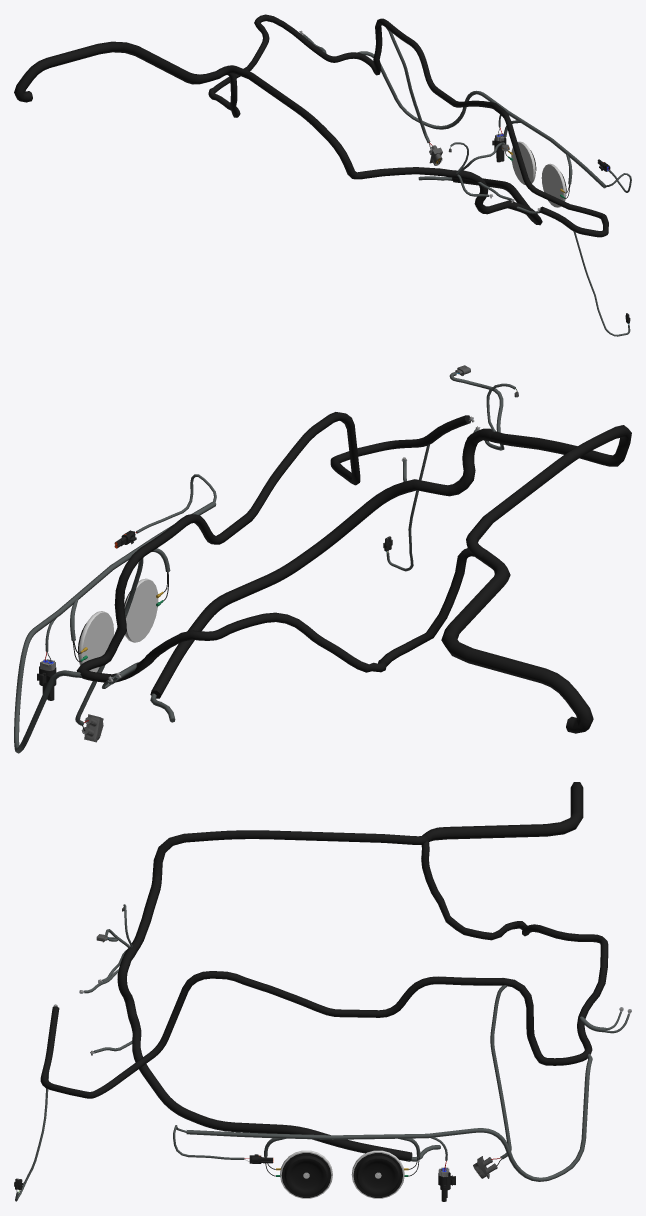
The model's file is E5_线束总.FBX.
3 views of the same model, one above another, from view 1: azimuth 30°, elevation 25°; view 2: azimuth 150°, elevation 25°; view 3: azimuth 270°, elevation 25° (orthographic). The views are drawn at different scales.
Visible parts, largest first — view 1: DCRGLCT-XS043, ZXS1, B28(A)_XSCT_01, DCRGLCT-XS038, DCRGLCT-XS060, ZLB, YLB, DCRGLCT-XS067; view 2: DCRGLCT-XS043, DCRGLCT-XS038, ZXS1, B28(A)_XSCT_01, DCRGLCT-XS060, ZLB, YLB, DCRGLCT-XS067; view 3: DCRGLCT-XS043, DCRGLCT-XS038, B28(A)_XSCT_01, DCRGLCT-XS060, ZXS1, YLB, ZLB, DCRGLCT-XS067.
Boxes of the visible parts, x1,y1,x2,y2 form: DCRGLCT-XS043: (208,14,608,237); ZXS1: (14,41,219,102); B28(A)_XSCT_01: (216,65,456,179); DCRGLCT-XS038: (452,170,542,225); DCRGLCT-XS060: (357,51,605,188); ZLB: (541,163,566,207); YLB: (511,141,536,184); DCRGLCT-XS067: (386,28,430,142); DCRGLCT-XS043: (76,412,474,682); DCRGLCT-XS038: (150,428,496,698); ZXS1: (441,550,593,733); B28(A)_XSCT_01: (466,425,631,560); DCRGLCT-XS060: (14,501,216,753); ZLB: (124,578,158,642); YLB: (78,611,114,672); DCRGLCT-XS067: (75,558,143,725); DCRGLCT-XS043: (40,841,608,1098); DCRGLCT-XS038: (117,946,412,1161); B28(A)_XSCT_01: (131,830,429,952); DCRGLCT-XS060: (186,1053,592,1181); ZXS1: (422,782,583,842); YLB: (351,1150,404,1198); ZLB: (280,1150,332,1198); DCRGLCT-XS067: (490,985,511,1159).
Bounding box in the file's own units: 147 × 63.55 × 146.
